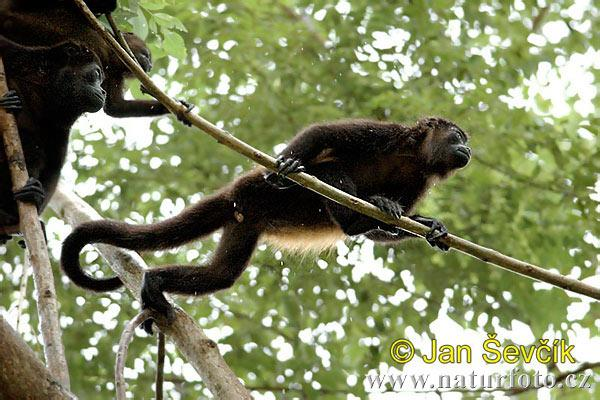monkey: (60, 117, 471, 318)
